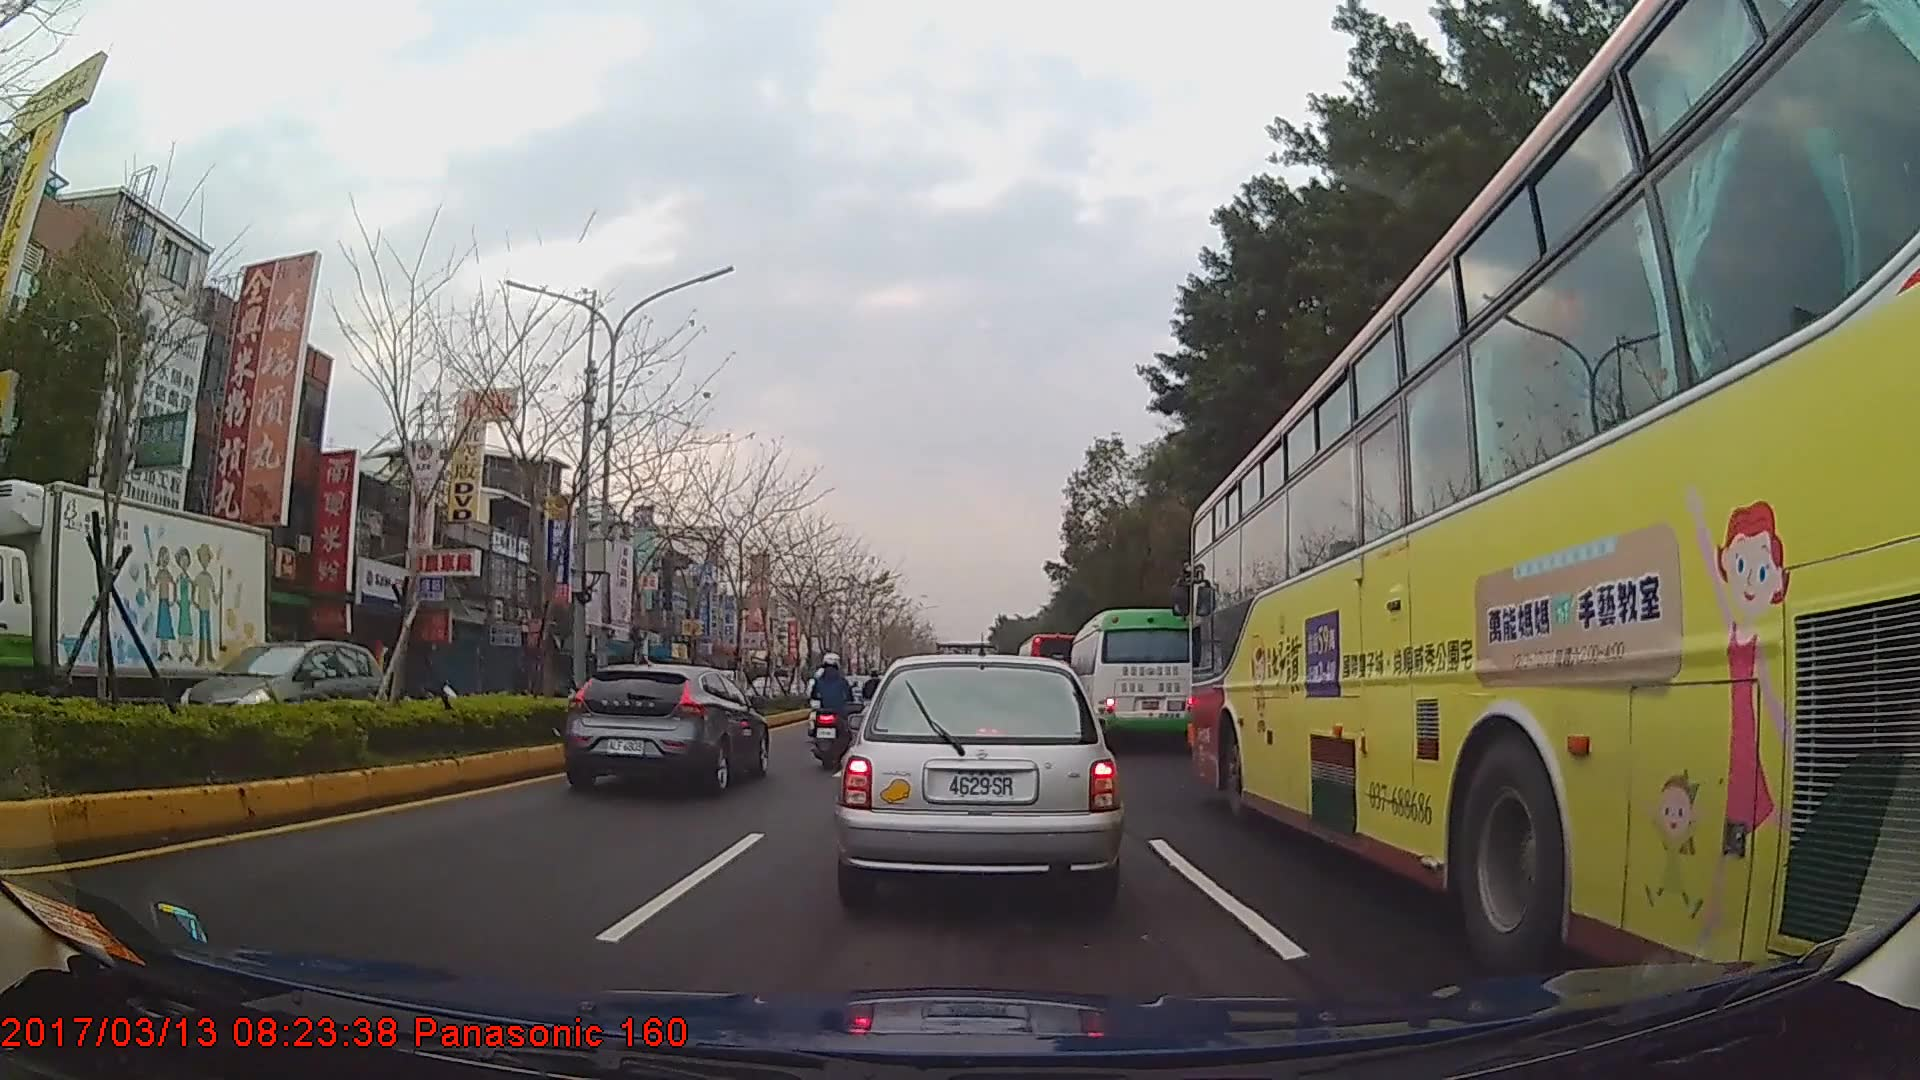rider: (810, 654, 858, 758), (863, 671, 885, 738)
vehicle: (1186, 0, 1920, 1027), (835, 651, 1120, 915), (0, 479, 268, 745), (563, 659, 772, 797), (176, 638, 385, 746), (1067, 607, 1198, 749), (1014, 633, 1083, 708)
